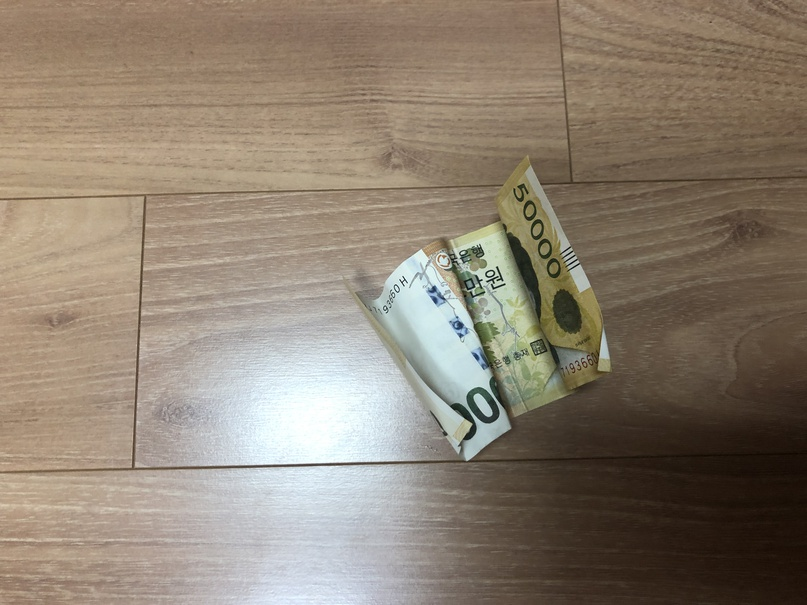50000won: (340, 154, 613, 463)
